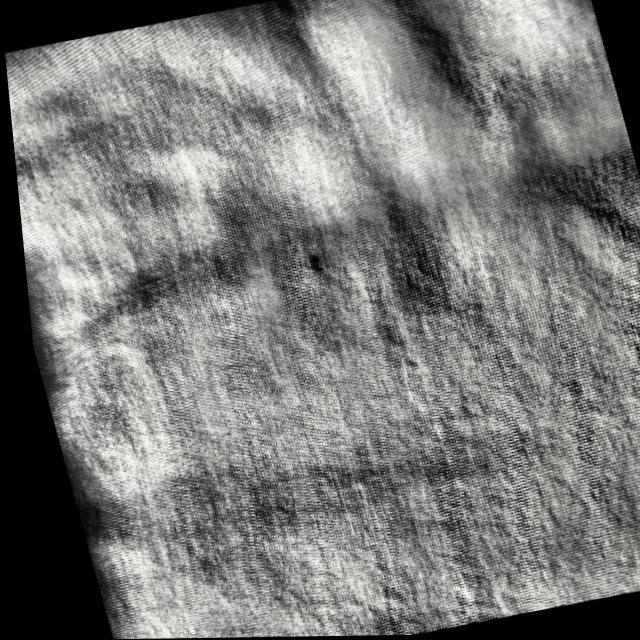Hole: (281, 240, 331, 284)
